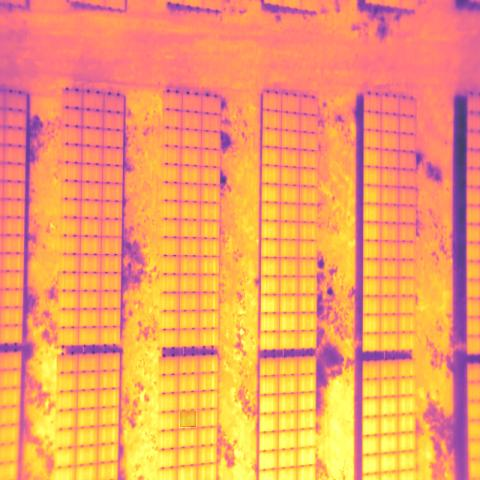fault: (180, 411, 196, 428)
